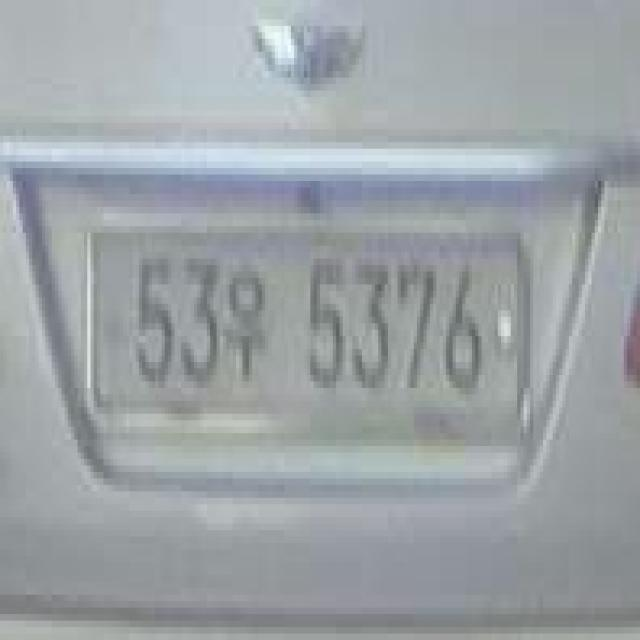3: (178, 233, 226, 394), (346, 239, 391, 401)
5: (298, 240, 352, 394), (132, 245, 174, 400)
6: (440, 252, 504, 401)
7: (394, 239, 443, 388)
license_plate: (74, 220, 540, 440)
u: (220, 252, 278, 382)
